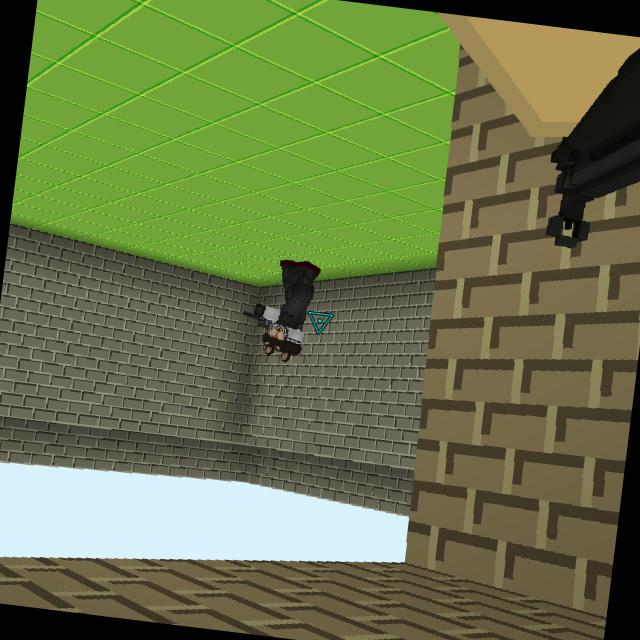enemy: (256, 256, 321, 367)
